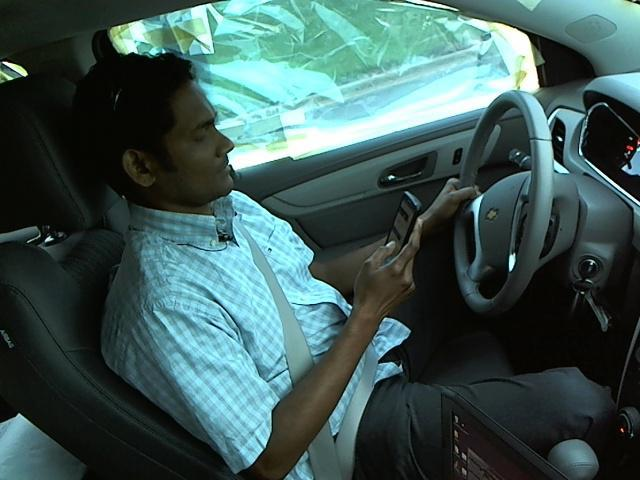PhoneUse: (374, 185, 429, 272)
